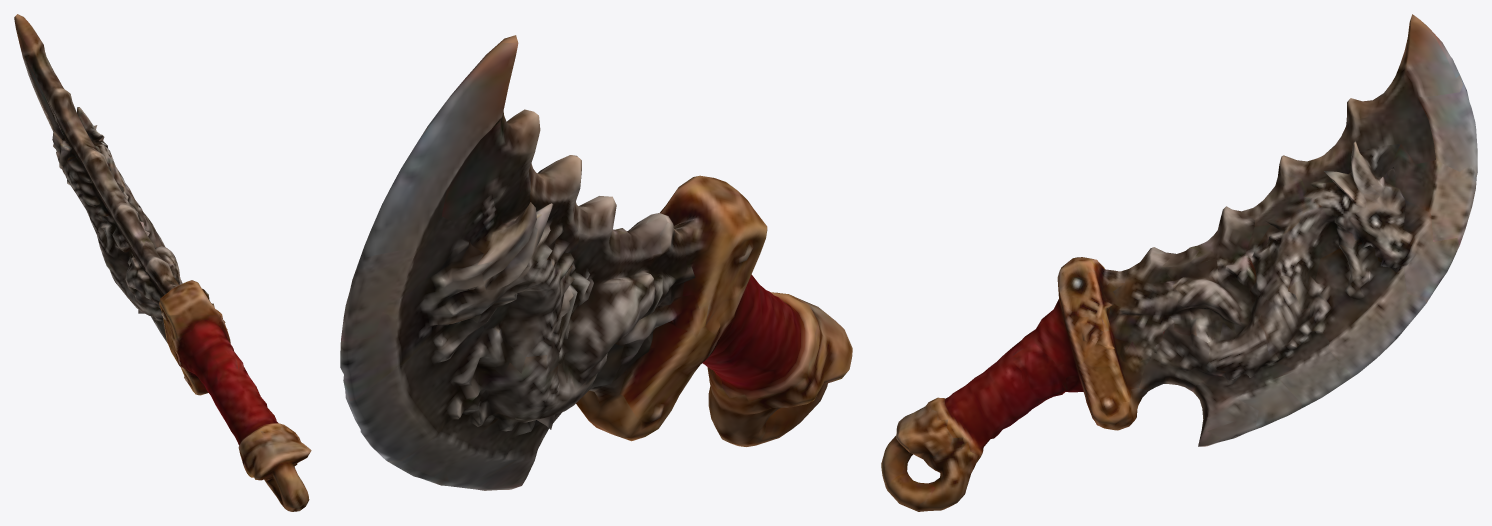
Rendered from weap_drgn.glb.
3 renders of one model, left to right at view 1: azimuth 30°, elevation 25°; view 2: azimuth 150°, elevation 25°; view 3: azimuth 270°, elevation 25°, orthographic. The views are drawn at different scales.
Parts seen in each view (by area): view 1: tripo_node_f38debd9-07a8-492c-9a55-b46207c66096; view 2: tripo_node_f38debd9-07a8-492c-9a55-b46207c66096; view 3: tripo_node_f38debd9-07a8-492c-9a55-b46207c66096.
Boxes of the visible parts, x1,y1,x2,y2 form: tripo_node_f38debd9-07a8-492c-9a55-b46207c66096: [14, 14, 311, 511]; tripo_node_f38debd9-07a8-492c-9a55-b46207c66096: [340, 35, 852, 490]; tripo_node_f38debd9-07a8-492c-9a55-b46207c66096: [881, 14, 1477, 511].
Size of the model in its own units: 0.1237 by 0.45 by 0.54.
1 material, 1 textured.
